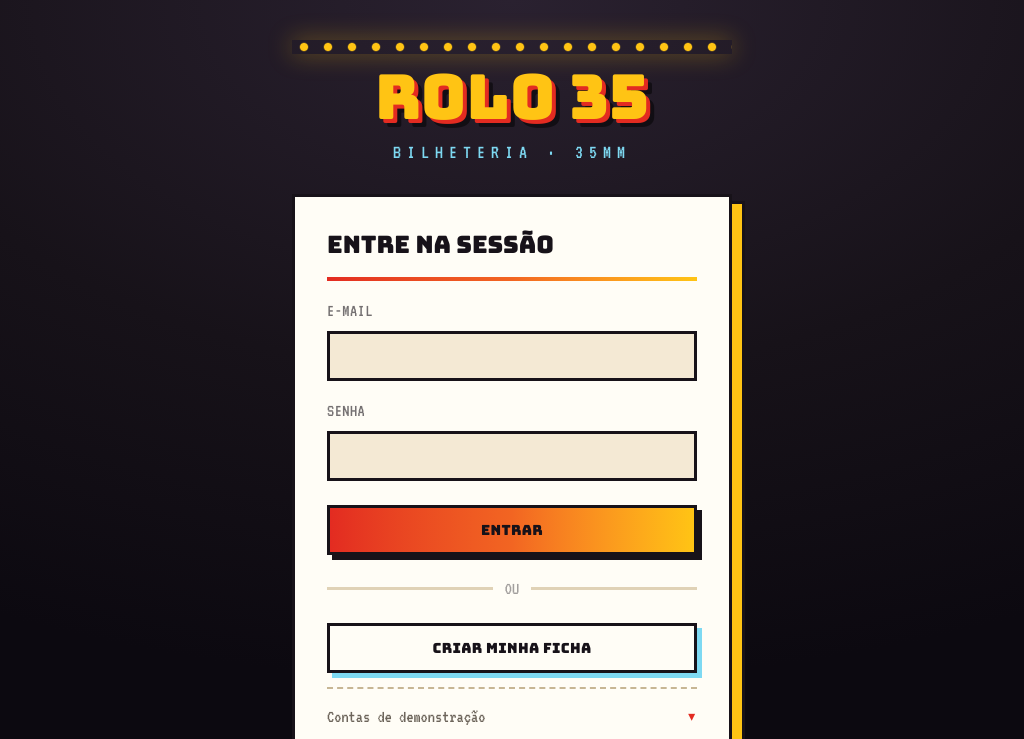
it: LoginPage › keeps the demo accounts collapsed until someone asks for them
Click the button "Contas de demonstração ▾".
click(406, 717)  # box [327,703,697,731]
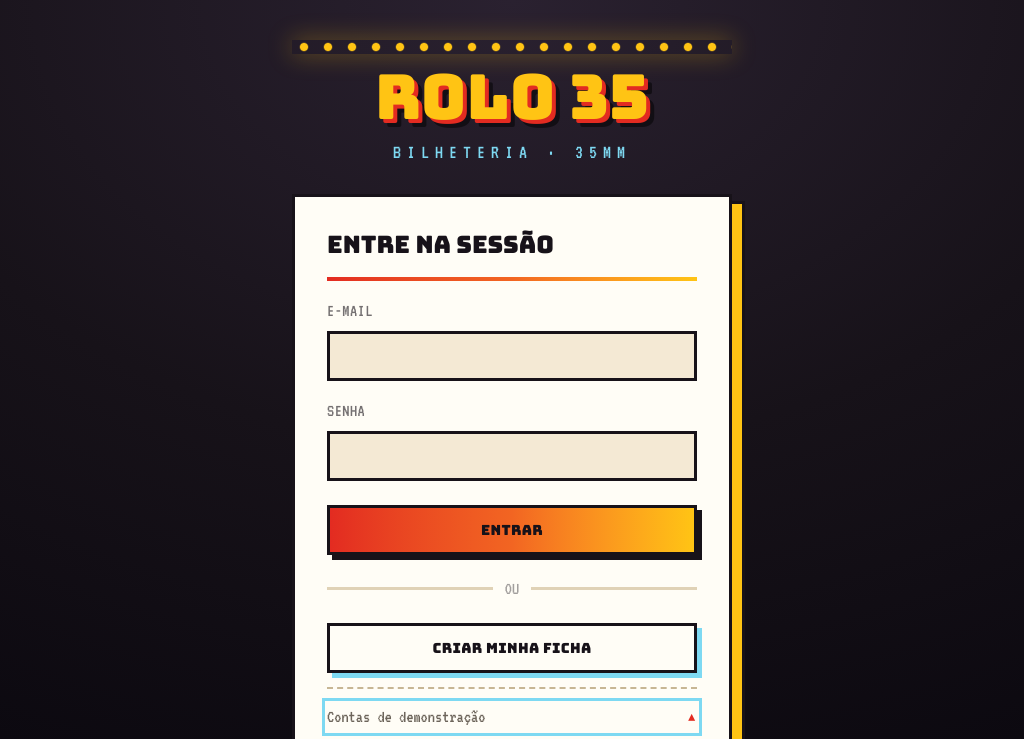
Check: the button "Contas de demonstração ▴" is expanded
Click the button "Contas de demonstração ▴".
click(406, 717)  # box [327,703,697,731]
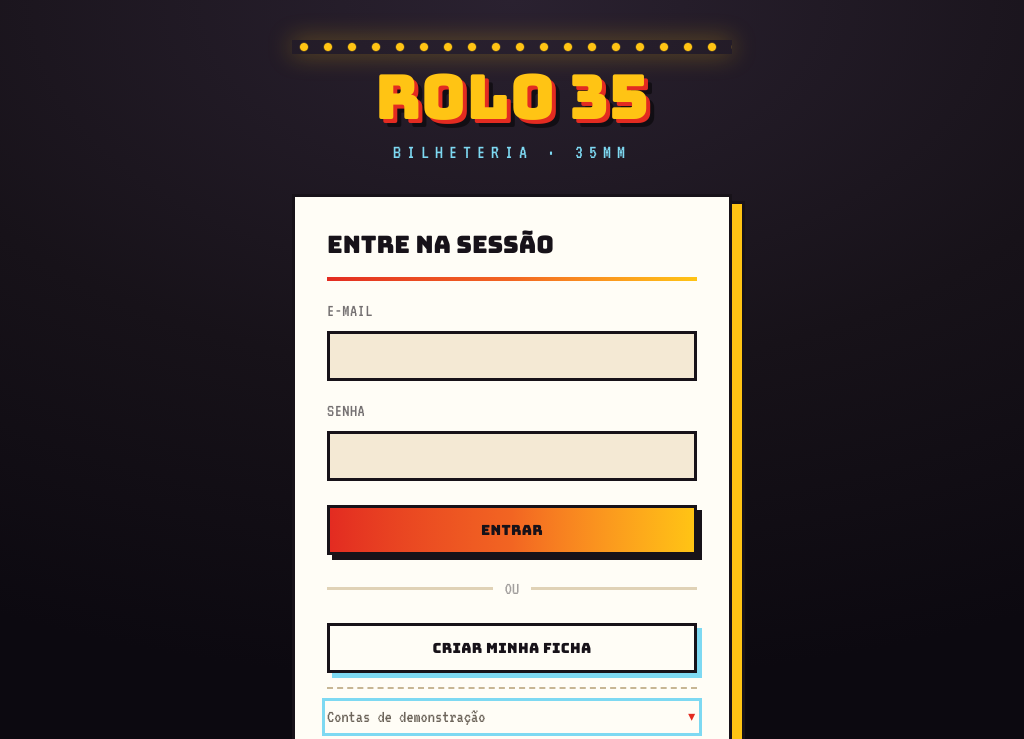
Check: the button "Contas de demonstração ▾" is collapsed, box [327,703,697,731]
